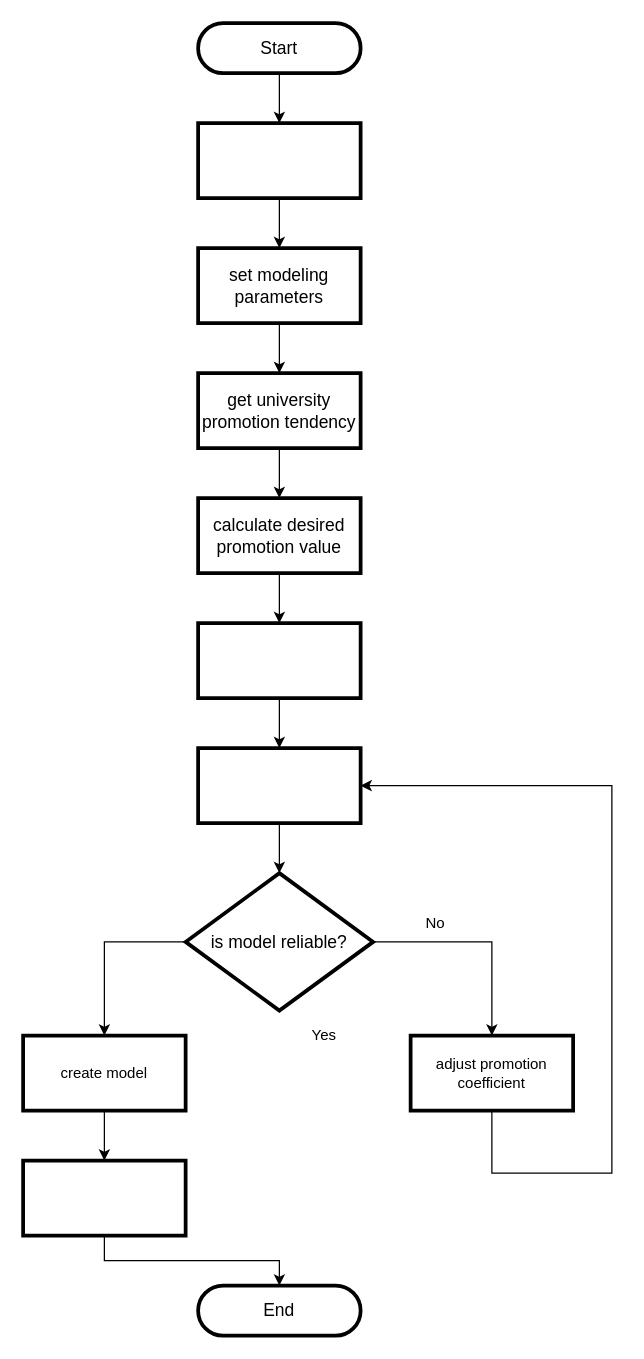
This 644x1359 diagram has some shape labels left out. The centre of each missing label's shape, as x and y in pixels:
"calculate basic promotion coefficient" goes at point 279,660.
"get modeling parameters" goes at point 279,160.
"save model" goes at point 104,1197.
"test model with basic promotion coefficient" goes at point 279,785.
